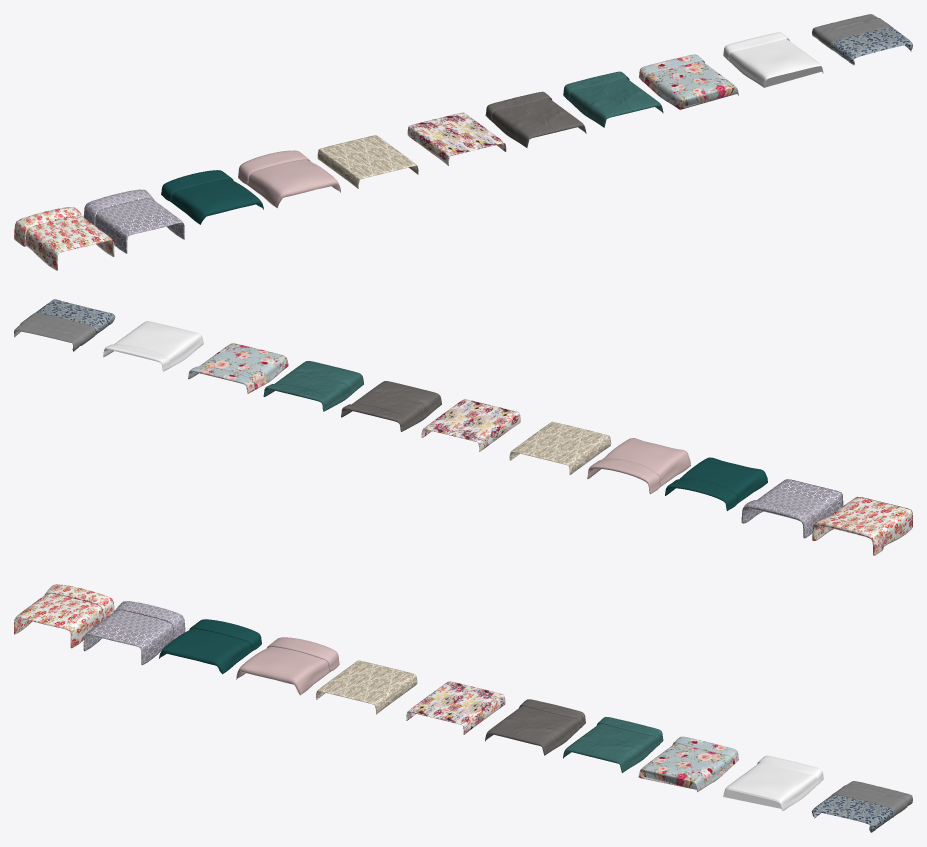
File: BEDSHEET.fbx
The picture shows the model from 3 angles, top to bottom: view 1: azimuth 30°, elevation 25°; view 2: azimuth 150°, elevation 25°; view 3: azimuth 330°, elevation 25°; orthographic projection.
Parts seen in each view (by area): view 1: bed_sheet Copper Grove Aanekoski.001, bed_sheet Copper Grove Aanekoski.002, Lyster Platform Bed.004, Lyster Platform Bed.002, bed_2 bed_sheet.001, bed_2 bed_sheet.002, Eichhorn Platform Bed.003, Eichhorn Platform Bed.002, Boles Full Panel Bed with 6 Drawers.002, bedsheet_1, Boles Full Panel Bed with 6 Drawers.004; view 2: bed_sheet Copper Grove Aanekoski.001, bed_sheet Copper Grove Aanekoski.002, bed_2 bed_sheet.001, Boles Full Panel Bed with 6 Drawers.002, bed_2 bed_sheet.002, bedsheet_1, Boles Full Panel Bed with 6 Drawers.004, Eichhorn Platform Bed.003, Eichhorn Platform Bed.002, Lyster Platform Bed.004, Lyster Platform Bed.002; view 3: bed_sheet Copper Grove Aanekoski.002, Lyster Platform Bed.004, bed_2 bed_sheet.001, Lyster Platform Bed.002, bed_sheet Copper Grove Aanekoski.001, bed_2 bed_sheet.002, Eichhorn Platform Bed.003, Eichhorn Platform Bed.002, Boles Full Panel Bed with 6 Drawers.002, bedsheet_1, Boles Full Panel Bed with 6 Drawers.004.
Boxes of the visible parts, x1,y1,x2,y2 form: bed_sheet Copper Grove Aanekoski.001: [14, 207, 114, 270]; bed_sheet Copper Grove Aanekoski.002: [83, 189, 184, 253]; Lyster Platform Bed.004: [723, 32, 823, 87]; Lyster Platform Bed.002: [639, 54, 738, 109]; bed_2 bed_sheet.001: [238, 150, 340, 208]; bed_2 bed_sheet.002: [161, 170, 263, 224]; Eichhorn Platform Bed.003: [485, 91, 586, 147]; Eichhorn Platform Bed.002: [563, 71, 663, 127]; Boles Full Panel Bed with 6 Drawers.002: [317, 135, 418, 188]; bedsheet_1: [812, 14, 912, 65]; Boles Full Panel Bed with 6 Drawers.004: [407, 112, 506, 165]; bed_sheet Copper Grove Aanekoski.001: [812, 496, 912, 555]; bed_sheet Copper Grove Aanekoski.002: [741, 479, 843, 538]; bed_2 bed_sheet.001: [587, 438, 690, 494]; Boles Full Panel Bed with 6 Drawers.002: [509, 421, 611, 474]; bed_2 bed_sheet.002: [665, 457, 767, 510]; bedsheet_1: [14, 299, 115, 351]; Boles Full Panel Bed with 6 Drawers.004: [421, 399, 520, 451]; Eichhorn Platform Bed.003: [341, 381, 441, 431]; Eichhorn Platform Bed.002: [263, 361, 363, 411]; Lyster Platform Bed.004: [103, 321, 203, 371]; Lyster Platform Bed.002: [188, 343, 288, 393]; bed_sheet Copper Grove Aanekoski.002: [83, 601, 185, 665]; Lyster Platform Bed.004: [723, 755, 823, 811]; bed_2 bed_sheet.001: [236, 637, 339, 695]; Lyster Platform Bed.002: [638, 736, 738, 792]; bed_sheet Copper Grove Aanekoski.001: [14, 584, 114, 648]; bed_2 bed_sheet.002: [159, 619, 261, 674]; Eichhorn Platform Bed.003: [485, 699, 585, 755]; Eichhorn Platform Bed.002: [563, 717, 663, 772]; Boles Full Panel Bed with 6 Drawers.002: [315, 660, 417, 714]; bedsheet_1: [811, 781, 912, 832]; Boles Full Panel Bed with 6 Drawers.004: [406, 681, 505, 734].
Bounding box in the file's own units: 27 × 0.8313 × 2.27.
